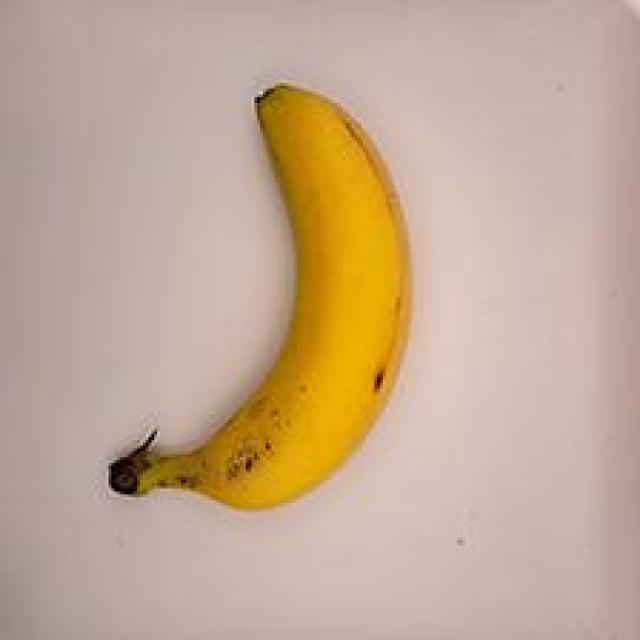ripe: (98, 64, 440, 525)
